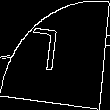L_S: (38, 28, 72, 82)
